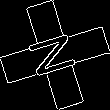N_E: (25, 29, 85, 81)
